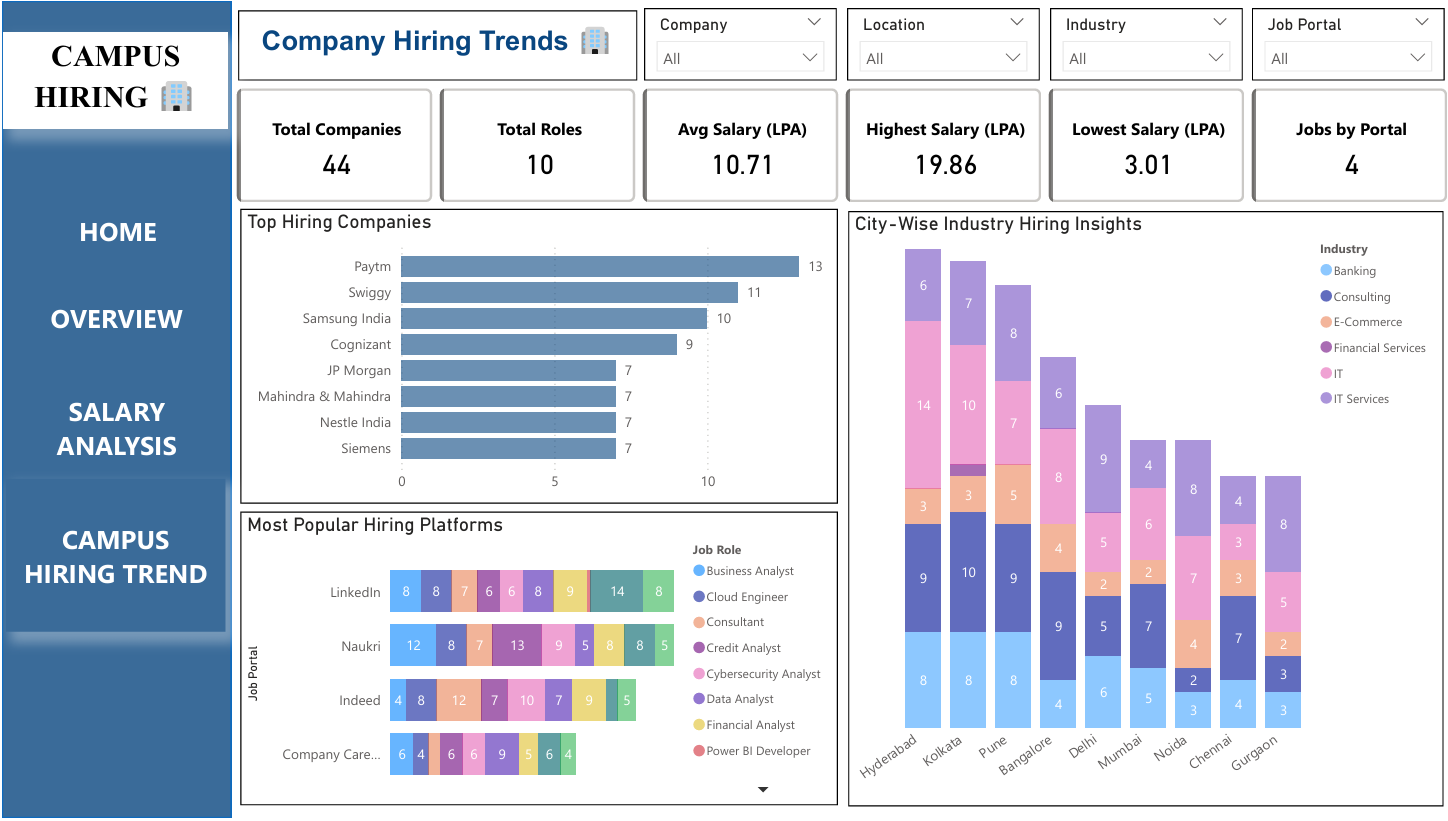

What the dashboard file says about the page in this screenshot:
{"tool":"powerbi","page":{"name":"Company Hiring Trends","canvas":[1280,720],"ordinal":3},"visuals":[{"type":"cardVisual","fields":{"Data":["Count(campus_hiring_verified_companies_new.Company)","Count(campus_hiring_verified_companies_new.Job Role)","Avg(campus_hiring_verified_companies_new.Salary (INR LPA))","Max(campus_hiring_verified_companies_new.Salary (INR LPA))1","Min(campus_hiring_verified_companies_new.Salary (INR LPA))2","Count(campus_hiring_verified_companies_new.Job Portal)"]},"box":[201.8,72,1078.5,110],"z":0},{"type":"barChart","title":"Top Hiring Companies ","fields":{"Category":["campus_hiring_verified_companies_new.Company"],"Y":["CountNonNull(campus_hiring_verified_companies_new.Job Role)"]},"box":[210.3,183,527,260],"z":1000},{"type":"barChart","title":"Most Popular Hiring Platforms","fields":{"Category":["campus_hiring_verified_companies_new.Job Portal"],"Y":["CountNonNull(campus_hiring_verified_companies_new.Job Role)"],"Series":["campus_hiring_verified_companies_new.Job Role"]},"box":[209.9,450.1,527,259.3],"z":2000},{"type":"columnChart","title":"City-Wise Industry Hiring Insights","fields":{"Category":["campus_hiring_verified_companies_new.Location"],"Series":["campus_hiring_verified_companies_new.Industry"],"Y":["CountNonNull(campus_hiring_verified_companies_new.Job Role)"]},"box":[746,185,525,525],"z":3000},{"type":"shape","box":[0,0,201.8,720.2],"z":4000},{"type":"slicer","fields":{"Values":["campus_hiring_verified_companies_new.Company"]},"box":[566,6,170,63.6],"z":5000},{"type":"slicer","fields":{"Values":["campus_hiring_verified_companies_new.Location"]},"box":[745,6,170,63.6],"z":6000},{"type":"slicer","fields":{"Values":["campus_hiring_verified_companies_new.Industry"]},"box":[924,6,170,64],"z":7000},{"type":"slicer","fields":{"Values":["campus_hiring_verified_companies_new.Job Portal"]},"box":[1102,6,170,63.6],"z":8000},{"type":"textbox","box":[208,8,352,62],"z":9000},{"type":"actionButton","box":[0,328.9,201.8,92.9],"z":10000},{"type":"actionButton","box":[0,244.6,201.8,68.5],"z":11000},{"type":"actionButton","box":[1.2,167.5,201.8,68.5],"z":12000},{"type":"actionButton","box":[3,421,194,134.5],"z":13000},{"type":"textbox","box":[1,28.1,198,84.4],"z":14000}]}

Visuals, with their boxes in screenshot pixels (x1, y1, x2, y2), scaled from the page's 1280x720 canvas onto the 1448x821 screenshot:
cardVisual - Count(campus_hiring_verified_companies_new.Company) x Count(campus_hiring_verified_companies_new.Job Role): region(228, 82, 1447, 208)
"Top Hiring Companies " barChart: region(238, 209, 834, 505)
"Most Popular Hiring Platforms" barChart: region(237, 513, 834, 809)
"City-Wise Industry Hiring Insights" columnChart: region(844, 211, 1438, 810)
shape: region(0, 0, 228, 820)
slicer - campus_hiring_verified_companies_new.Company: region(640, 7, 833, 79)
slicer - campus_hiring_verified_companies_new.Location: region(843, 7, 1035, 79)
slicer - campus_hiring_verified_companies_new.Industry: region(1045, 7, 1238, 80)
slicer - campus_hiring_verified_companies_new.Job Portal: region(1247, 7, 1439, 79)
textbox: region(235, 9, 634, 80)
actionButton: region(0, 375, 228, 481)
actionButton: region(0, 279, 228, 357)
actionButton: region(1, 191, 230, 269)
actionButton: region(3, 480, 223, 633)
textbox: region(1, 32, 225, 128)
